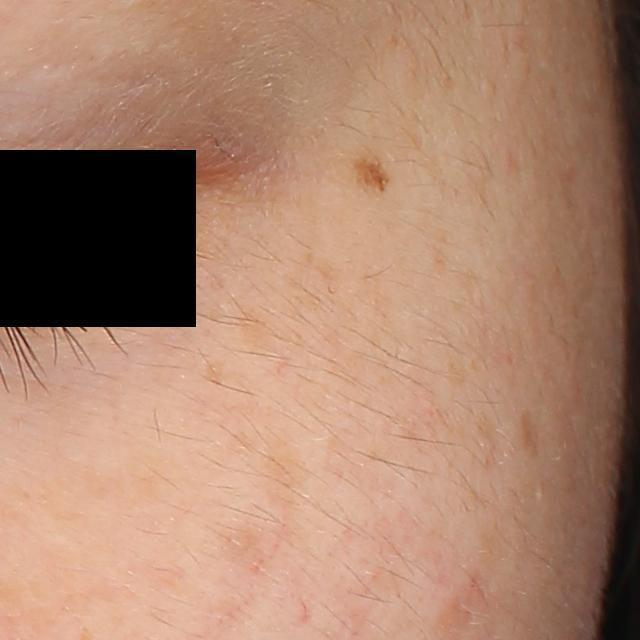melasma: (264, 442, 308, 501), (237, 302, 272, 343), (520, 407, 542, 456), (199, 358, 225, 387)
nevus: (352, 155, 395, 194)
